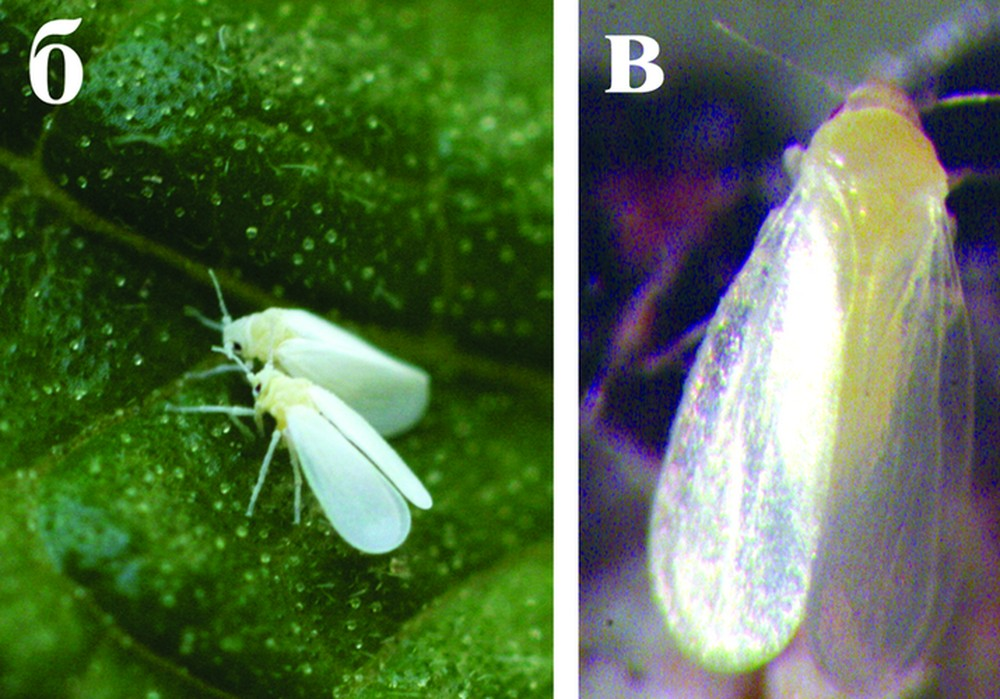Mosca Blanca: (668, 14, 988, 696), (183, 259, 452, 446), (207, 357, 438, 574)
